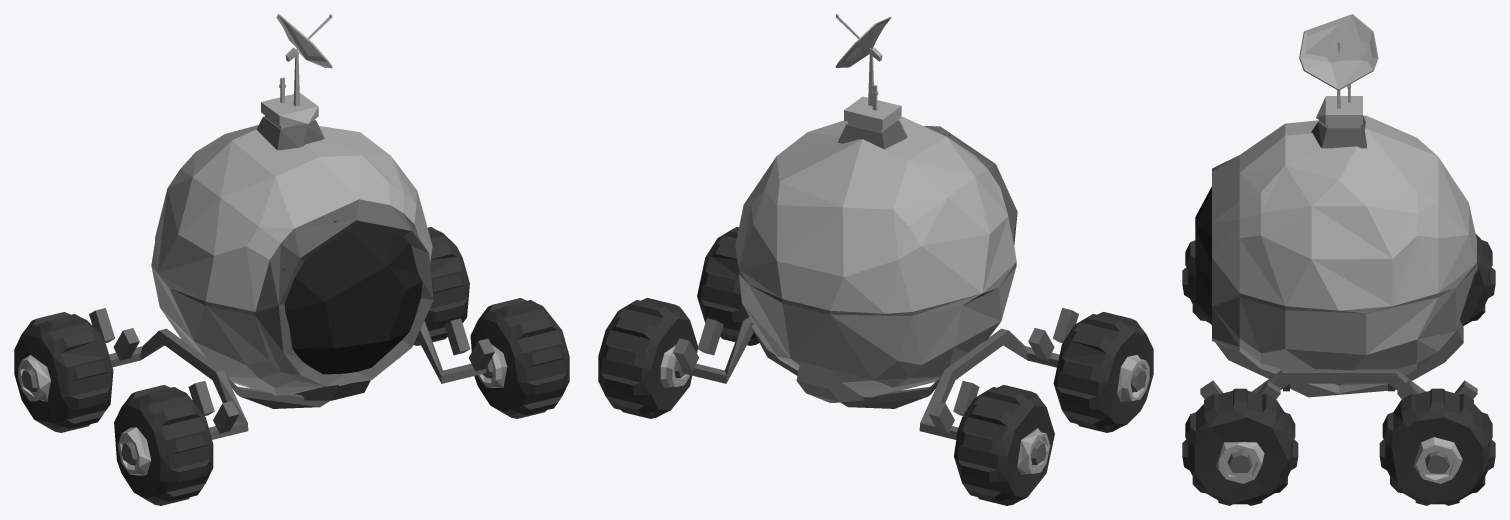
File: harvester.glb
The picture shows the model from 3 angles, left to right: view 1: azimuth 30°, elevation 25°; view 2: azimuth 150°, elevation 25°; view 3: azimuth 270°, elevation 25°; orthographic projection.
Parts seen in each view (by area): view 1: Rover_Round, Wheel_4, Wheel_2, Wheel_3, Wheel_1; view 2: Rover_Round, Wheel_2, Wheel_4, Wheel_1, Wheel_3; view 3: Rover_Round, Wheel_1, Wheel_3, Wheel_4, Wheel_2.
Part boxes in pixels (bbox=[...]): Rover_Round: bbox=[89, 14, 494, 439]; Wheel_4: bbox=[14, 312, 113, 432]; Wheel_2: bbox=[114, 385, 213, 505]; Wheel_3: bbox=[470, 298, 569, 418]; Wheel_1: bbox=[413, 227, 469, 345]; Rover_Round: bbox=[673, 14, 1078, 439]; Wheel_2: bbox=[1053, 312, 1153, 432]; Wheel_4: bbox=[954, 385, 1054, 505]; Wheel_1: bbox=[598, 298, 697, 418]; Wheel_3: bbox=[697, 227, 759, 345]; Rover_Round: bbox=[1195, 14, 1477, 399]; Wheel_1: bbox=[1379, 388, 1495, 505]; Wheel_3: bbox=[1182, 388, 1298, 505]; Wheel_4: bbox=[1460, 234, 1495, 326]; Wheel_2: bbox=[1182, 240, 1210, 323].
Bounding box in the file's own units: 5.79 × 5.15 × 3.69.
Materials: 1 (1 with a texture image).
